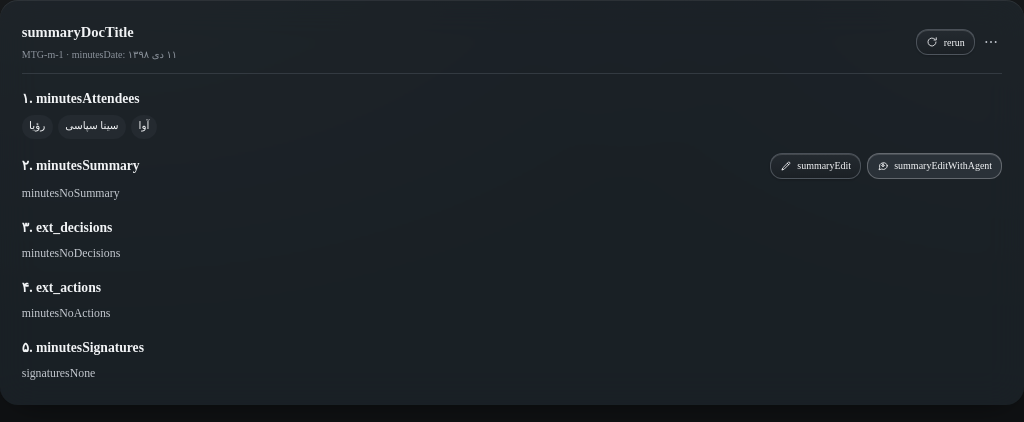
Test case: the document's row, and the shape it exports (2026-09-17) › holds the two exports in the ⋯ and leaves «تولید دوباره» outside it
Expected: the text "رؤیا" is shown, [22,115,52,139]
Expected: the button "rerun" is shown, [916,29,975,55]
Click the button named "summaryExport". click: (991, 42)
box: [980,31,1002,53]
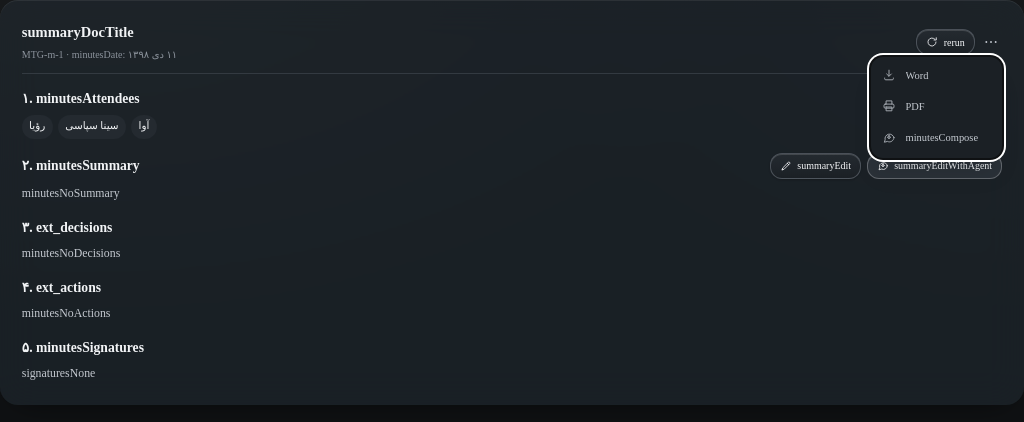
Now the menu item "Word" is shown, box [882,68,928,82]
Now the menu item "PDF" is shown, box [882,99,925,113]
